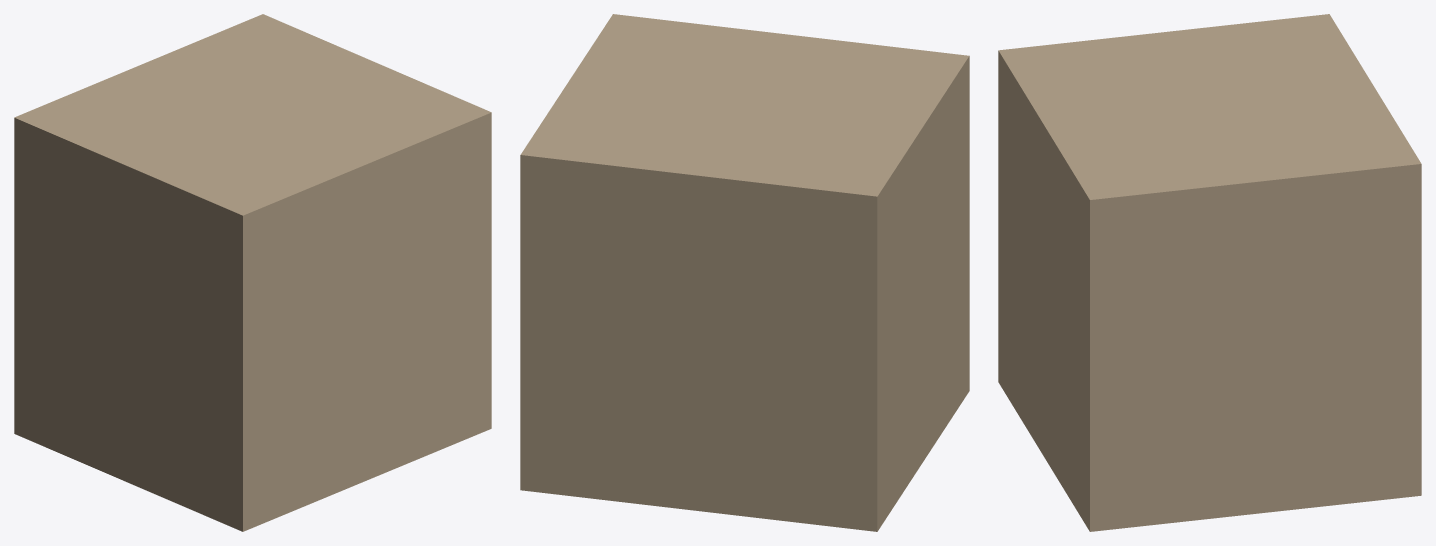
File: bld_99867661.dae
3 views of the same model, side by side, from view 1: azimuth 30°, elevation 25°; view 2: azimuth 150°, elevation 25°; view 3: azimuth 270°, elevation 25° (orthographic). The views are drawn at different scales.
Visible parts, largest first — view 1: bld_99867661; view 2: bld_99867661; view 3: bld_99867661.
Boxes of the visible parts, left/top/right/bottom form: bld_99867661: left=14, top=14, right=491, bottom=531; bld_99867661: left=520, top=14, right=969, bottom=531; bld_99867661: left=998, top=14, right=1421, bottom=531.
Bounding box in the file's own units: 9.62 × 9.25 × 8.
